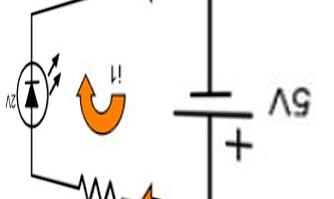Battery: (167, 75, 256, 164)
